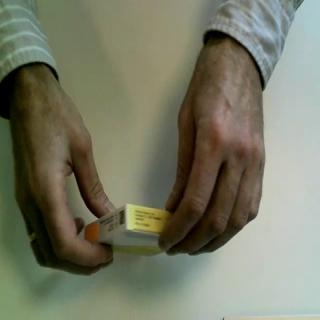buprefarm5ug_hour: (83, 203, 177, 259)
